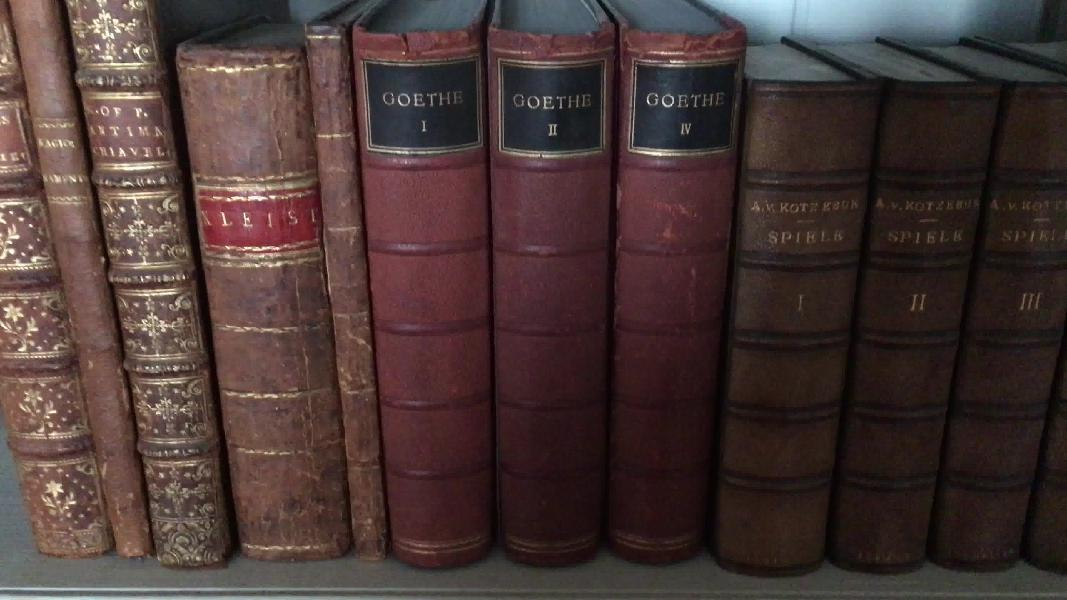Aa6-10: (298, 21, 401, 578)
Aa6-11_13: (354, 23, 728, 573)
Aa6-14_17: (718, 72, 1067, 578)
Aa6-7: (10, 4, 176, 565)
Aa6-8: (57, 1, 253, 578)
Aa6-9: (176, 28, 364, 568)
